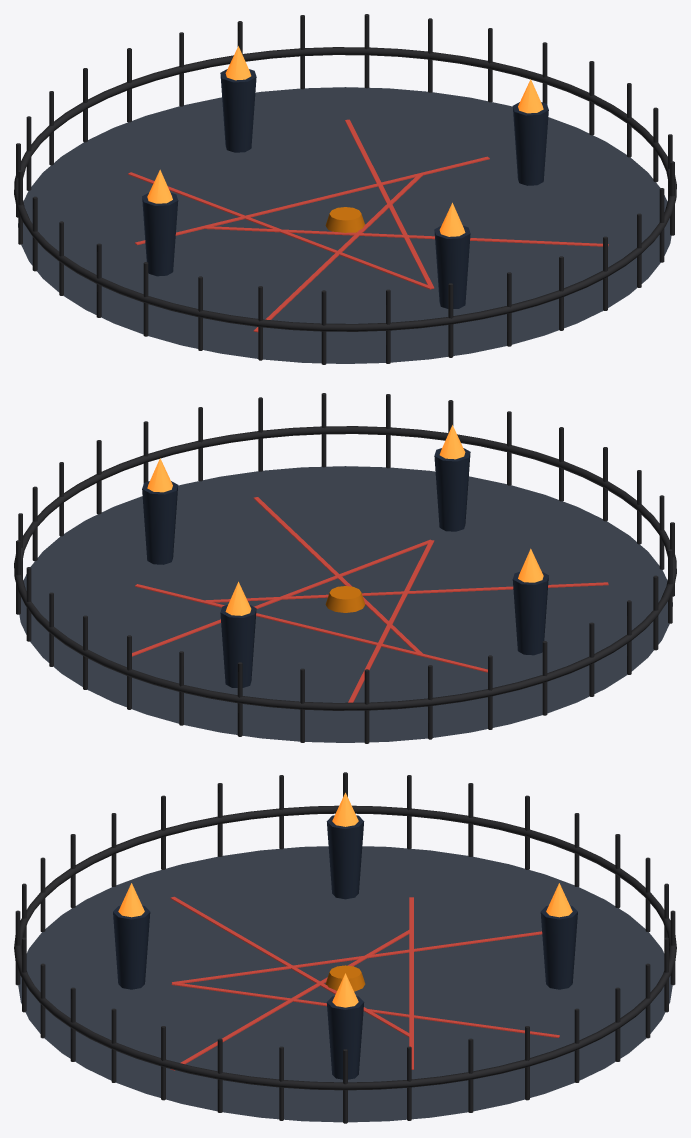
The model's file is evt_02.glb.
The picture shows the model from 3 angles, top to bottom: view 1: azimuth 30°, elevation 25°; view 2: azimuth 150°, elevation 25°; view 3: azimuth 270°, elevation 25°; orthographic projection.
Visible parts, largest first — view 1: scenario_tile_round_floor, EVT_02, devil_square_skull_totems, devil_square_pentagram; view 2: scenario_tile_round_floor, EVT_02, devil_square_skull_totems, devil_square_pentagram; view 3: scenario_tile_round_floor, EVT_02, devil_square_skull_totems, devil_square_pentagram.
Boxes of the visible parts, <box> form: scenario_tile_round_floor: <box>18,87,671,363</box>; EVT_02: <box>14,14,676,364</box>; devil_square_skull_totems: <box>142,46,548,308</box>; devil_square_pentagram: <box>128,119,608,332</box>; scenario_tile_round_floor: <box>19,466,672,742</box>; EVT_02: <box>14,393,676,743</box>; devil_square_skull_totems: <box>142,425,548,687</box>; devil_square_pentagram: <box>132,497,608,702</box>; scenario_tile_round_floor: <box>18,846,672,1122</box>; EVT_02: <box>14,772,676,1123</box>; devil_square_skull_totems: <box>113,792,577,1079</box>; devil_square_pentagram: <box>170,896,559,1070</box>.
Size of the model in its own units: 49.6 by 8.4 by 49.6.
